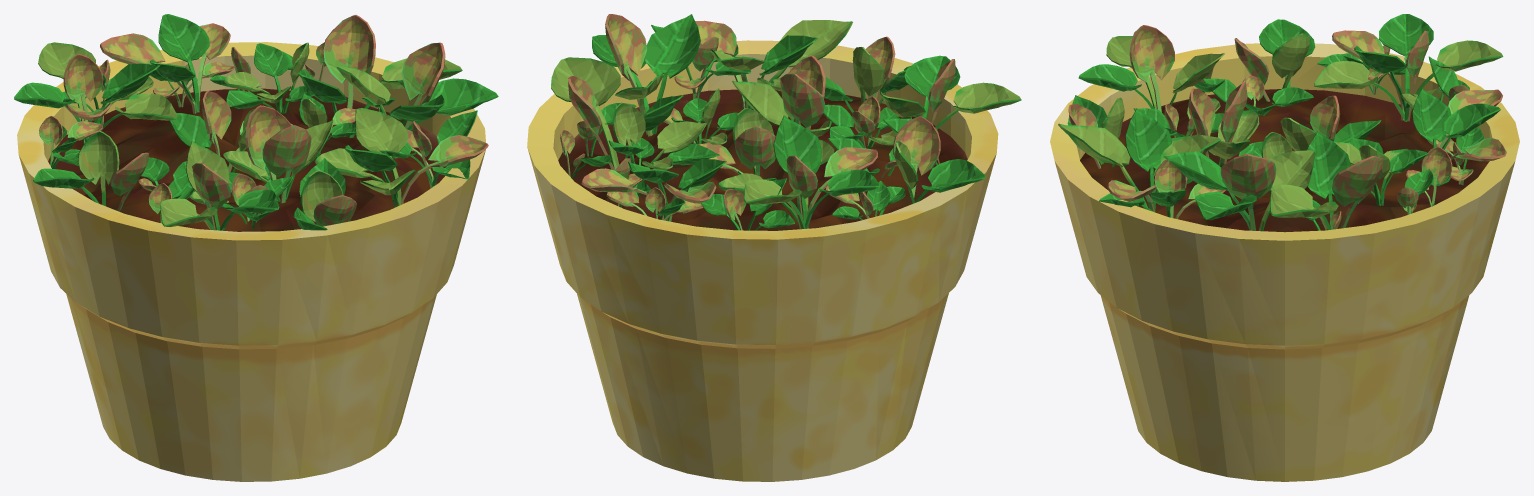
The model's file is Viola_Bad_End.glb.
The picture shows the model from 3 angles, left to right: view 1: azimuth 30°, elevation 25°; view 2: azimuth 150°, elevation 25°; view 3: azimuth 270°, elevation 25°; orthographic projection.
Visible parts, largest first — view 1: Pot, Plant; view 2: Pot, Plant; view 3: Pot, Plant.
Part boxes in pixels (box(x1,y1,x2,y2)): Pot: box(17, 42, 485, 481); Plant: box(14, 14, 498, 230); Pot: box(527, 40, 998, 481); Plant: box(551, 14, 1021, 230); Pot: box(1050, 43, 1519, 481); Plant: box(1058, 14, 1506, 231).
Bounding box in the file's own units: 2.15 × 1.67 × 2.05.
Materials: 4 (4 with a texture image).
